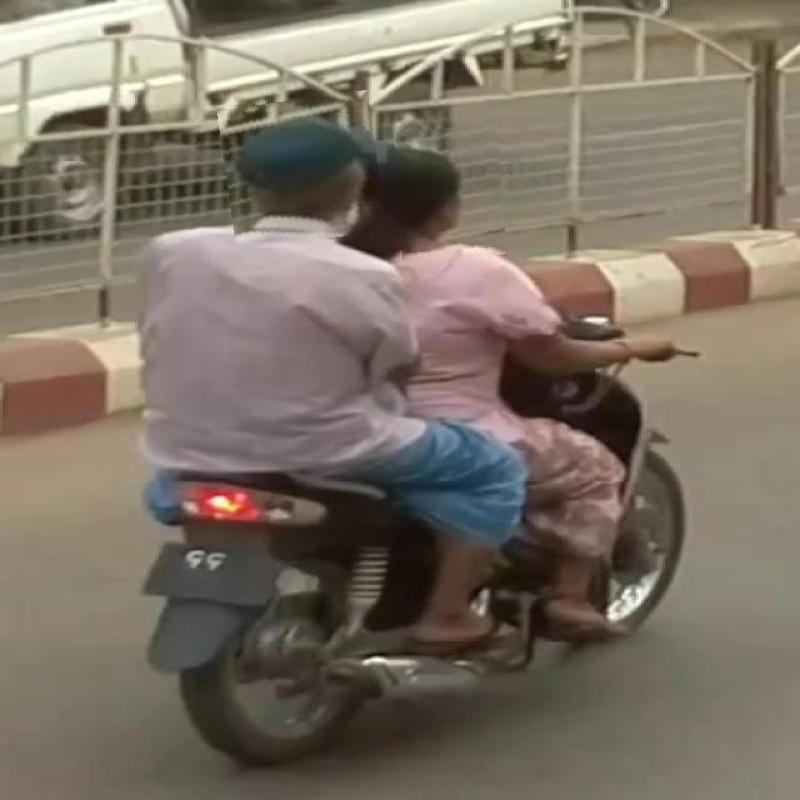nohelmet: (222, 96, 382, 246), (396, 126, 504, 260)
